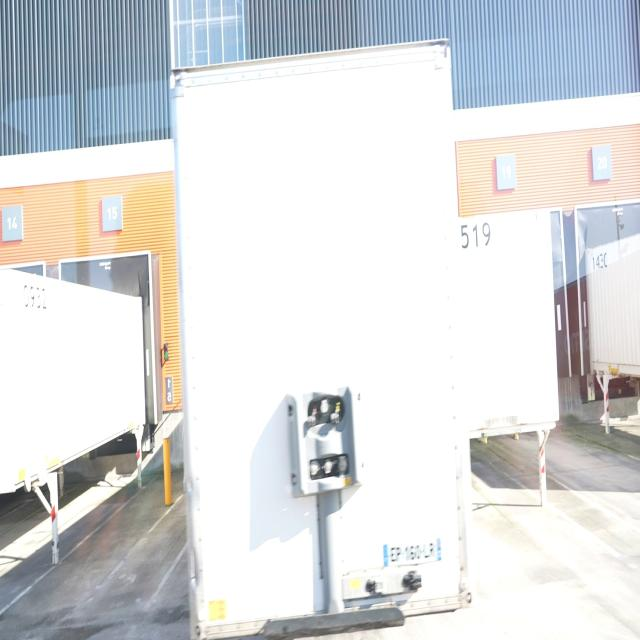Code: (586, 246, 612, 273)
